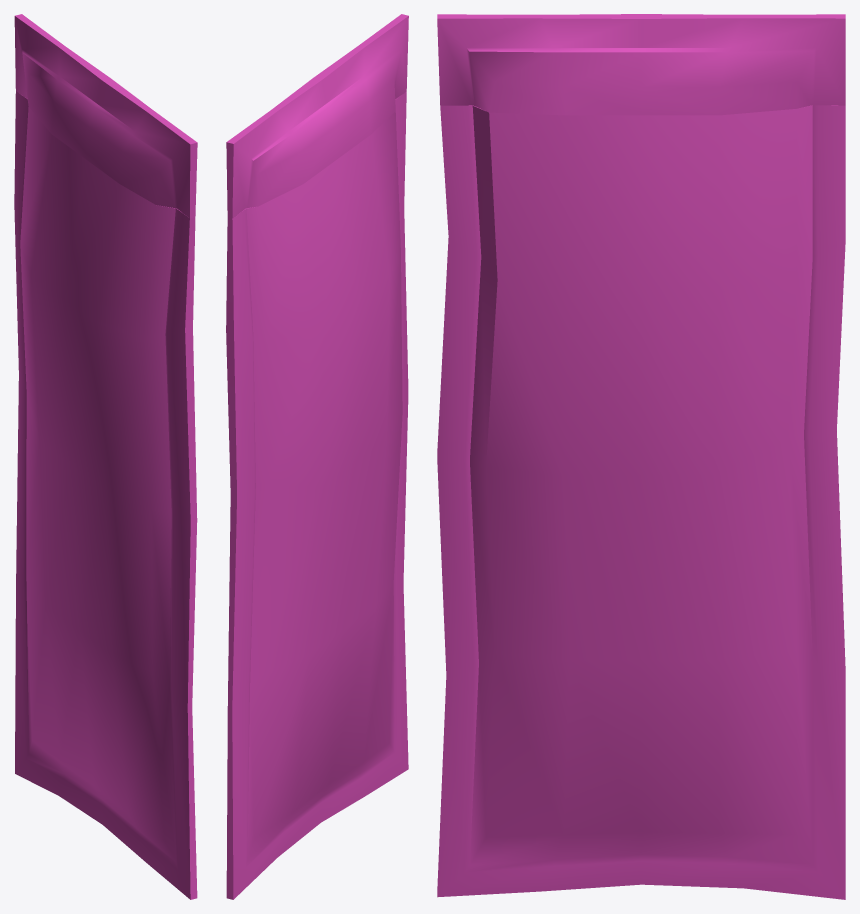
File: FBX_PovidoneStick.fbx
The picture shows the model from 3 angles, left to right: view 1: azimuth 30°, elevation 25°; view 2: azimuth 150°, elevation 25°; view 3: azimuth 270°, elevation 25°; orthographic projection. The views are drawn at different scales.
Parts seen in each view (by area): view 1: SM_PovidoneStick_cover_01, SM_PovidoneStick_cover_02; view 2: SM_PovidoneStick_cover_01, SM_PovidoneStick_cover_02; view 3: SM_PovidoneStick_cover_01, SM_PovidoneStick_cover_02.
Part boxes in pixels (x1,y1,x2,y2): SM_PovidoneStick_cover_01: (14,91,197,899); SM_PovidoneStick_cover_02: (14,14,197,218); SM_PovidoneStick_cover_01: (226,92,408,899); SM_PovidoneStick_cover_02: (226,14,408,218); SM_PovidoneStick_cover_01: (437,105,845,899); SM_PovidoneStick_cover_02: (437,14,845,115).
Size of the model in its own units: 0.0127 by 0.1129 by 0.0474.
